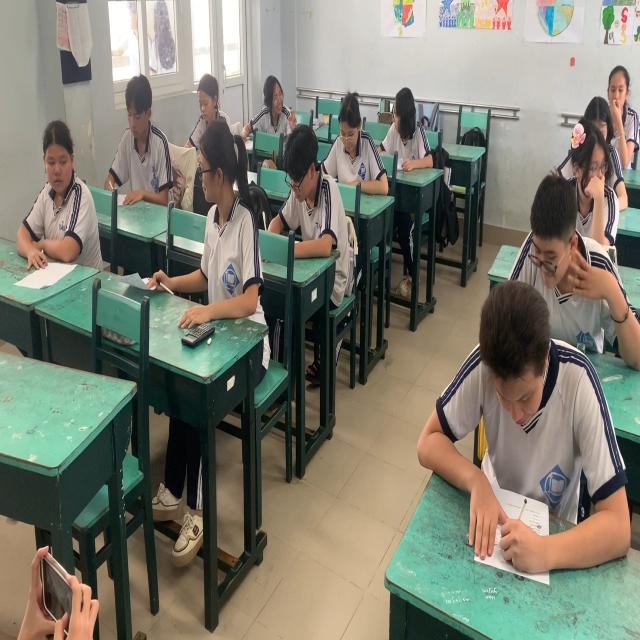cheating: (134, 151, 260, 331), (18, 117, 113, 286), (564, 96, 615, 202), (381, 85, 426, 165), (260, 71, 298, 127)
not_cheating: (432, 282, 615, 582), (496, 179, 593, 303), (101, 68, 170, 216), (273, 112, 329, 252), (325, 82, 381, 186), (178, 54, 240, 134), (599, 58, 636, 124)
